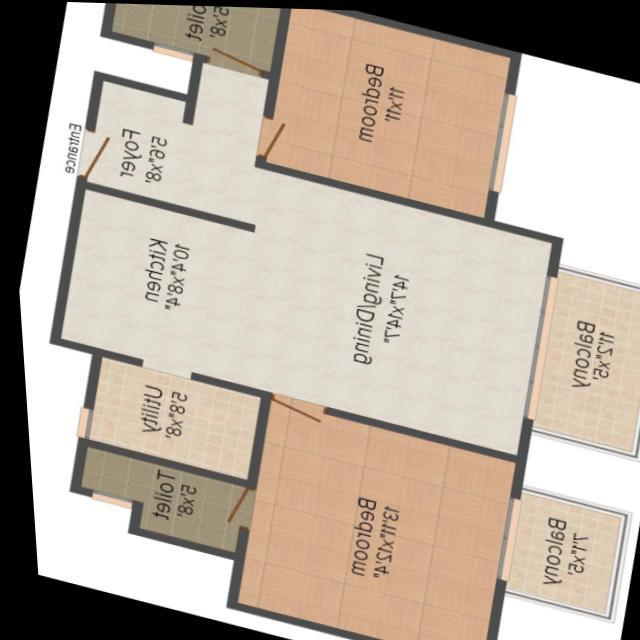Balcony-Sitout: (518, 261, 640, 458), (488, 481, 625, 617)
Bedroom: (255, 7, 520, 223)
Bedroom with Toilet: (64, 392, 514, 640)
Enterance-Foyer: (72, 70, 184, 205)
Kitchen: (42, 178, 252, 387)
Living: (222, 167, 548, 452)
Toilet: (59, 438, 244, 554), (99, 2, 287, 78)
Utility: (77, 349, 256, 479)
